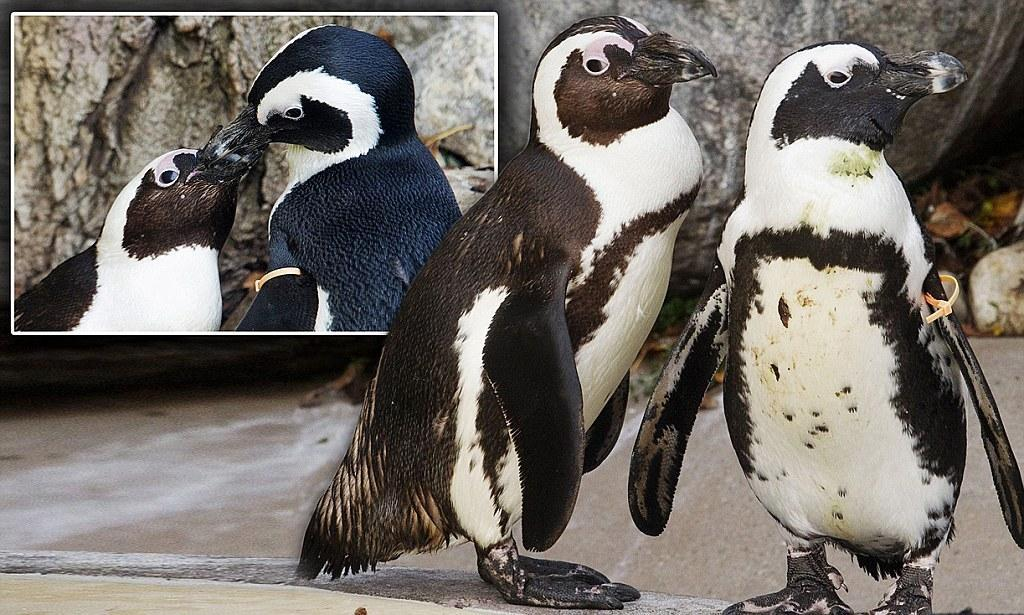Penguin: (298, 16, 716, 609), (627, 41, 1022, 614), (197, 24, 460, 332), (14, 126, 257, 332)
